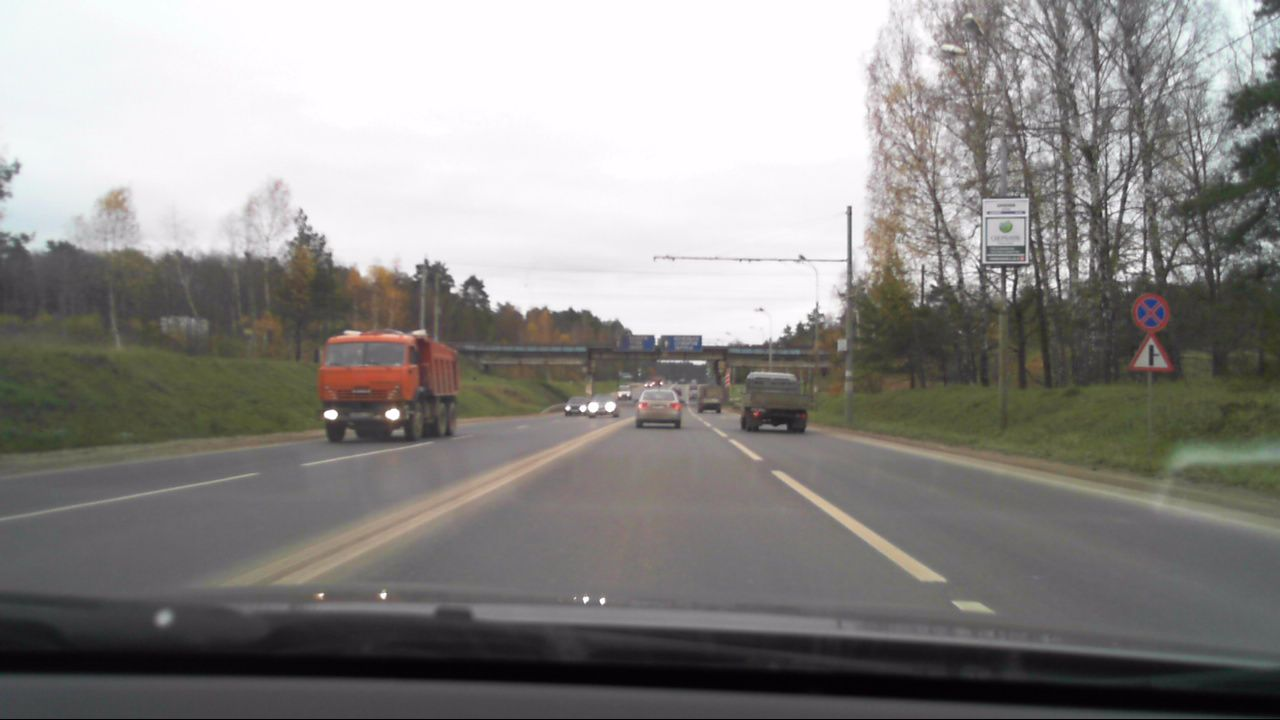No Parking: (1126, 291, 1173, 334)
